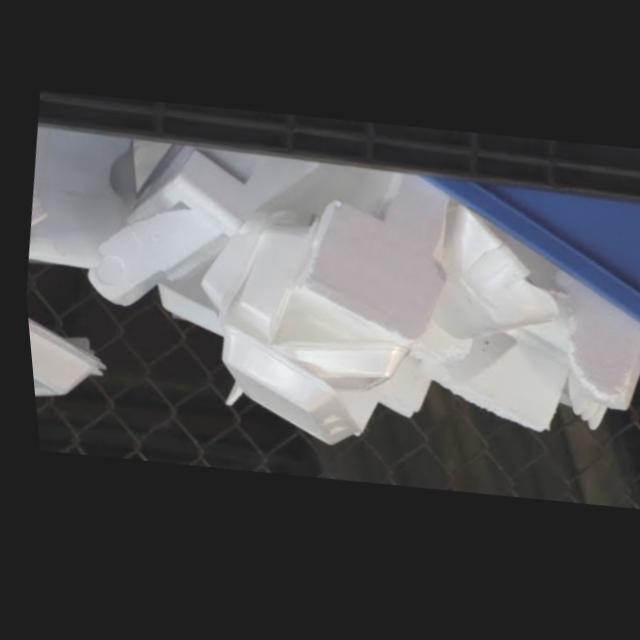styrofoam: (470, 218, 640, 437), (291, 179, 447, 350), (214, 325, 358, 450), (427, 210, 555, 346), (122, 153, 315, 238), (25, 126, 129, 270), (410, 339, 561, 437), (83, 211, 229, 308), (229, 221, 315, 348), (194, 213, 279, 327), (329, 362, 426, 441), (153, 237, 224, 341), (267, 345, 402, 396), (22, 318, 101, 398)
